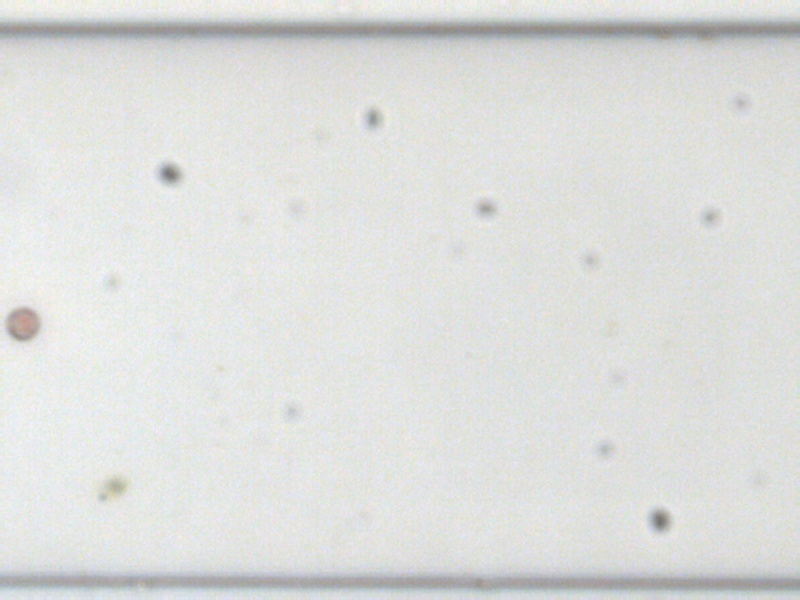Dunaliella salina: (93, 474, 127, 503)
Porphyridium: (1, 302, 43, 342)
